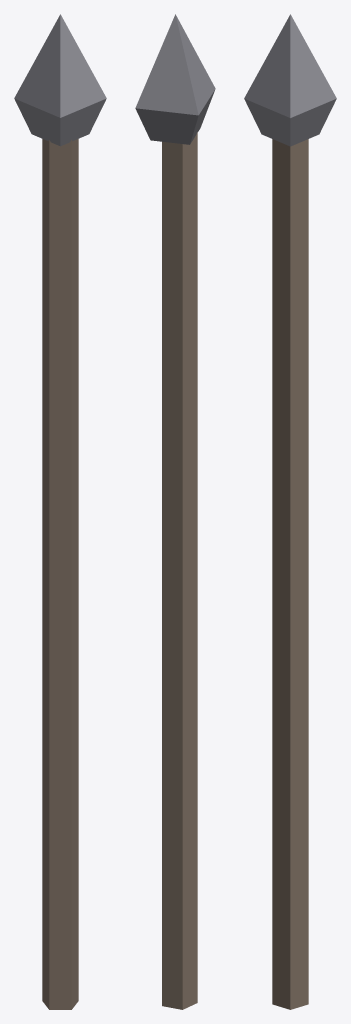
Rendered from arrow_bigcrowwbow.fbx.
3 renders of one model, left to right at view 1: azimuth 90°, elevation 25°; view 2: azimuth 210°, elevation 25°; view 3: azimuth 270°, elevation 25°, orthographic.
Visible parts, largest first — view 1: arrow_bigcrossbow; view 2: arrow_bigcrossbow; view 3: arrow_bigcrossbow.
Boxes of the visible parts, bbox=[...] form: arrow_bigcrossbow: bbox=[14, 14, 106, 1009]; arrow_bigcrossbow: bbox=[135, 14, 215, 1009]; arrow_bigcrossbow: bbox=[244, 14, 336, 1009].
Bounding box in the file's own units: 15.45 × 182 × 15.45.
